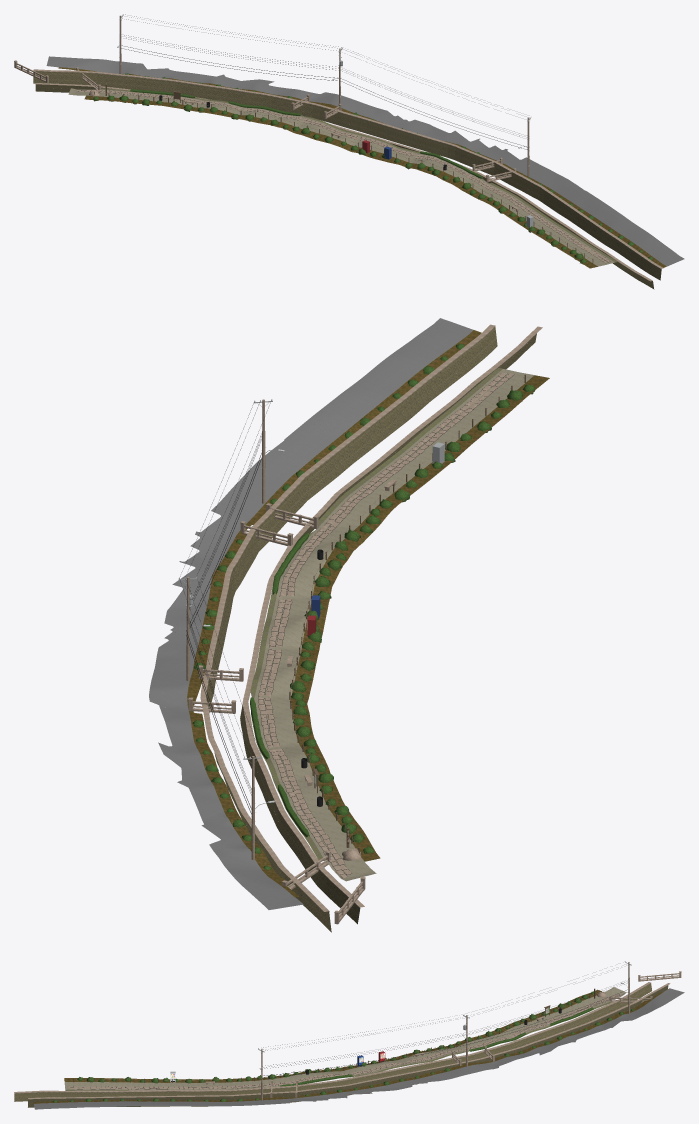
The model's file is tetsugaku.glb.
3 views of the same model, one above another, from view 1: azimuth 30°, elevation 25°; view 2: azimuth 150°, elevation 25°; view 3: azimuth 270°, elevation 25° (orthographic). The views are drawn at different scales.
Parts seen in each view (by area): view 1: tetsugaku_ground_asphalt, tetsugaku_wall_rubble, tetsugaku_ground_earth, tetsugaku_ground_verge, tetsugaku_wall_rubble_wet, tetsugaku_edging, tetsugaku_hedge, tetsugaku_shrub, tetsugaku_ground_slab, tetsugaku_granite, tetsugaku_cable, tetsugaku_ground_slab_b (+3 smaller); view 2: tetsugaku_ground_asphalt, tetsugaku_ground_earth, tetsugaku_ground_verge, tetsugaku_edging, tetsugaku_wall_rubble, tetsugaku_wall_rubble_wet, tetsugaku_shrub, tetsugaku_ground_slab, tetsugaku_hedge, tetsugaku_granite, tetsugaku_ground_slab_b, tetsugaku_ground_joint (+3 smaller); view 3: tetsugaku_wall_rubble, tetsugaku_ground_asphalt, tetsugaku_ground_earth, tetsugaku_ground_verge, tetsugaku_edging, tetsugaku_ground_slab, tetsugaku_hedge, tetsugaku_shrub, tetsugaku_ground_slab_b, tetsugaku_wall_rubble_wet, tetsugaku_granite, tetsugaku_cable (+4 smaller).
Boxes of the visible parts, bbox=[...] form: tetsugaku_ground_asphalt: bbox=[46, 56, 684, 266]; tetsugaku_wall_rubble: bbox=[33, 71, 661, 285]; tetsugaku_ground_earth: bbox=[68, 88, 614, 266]; tetsugaku_ground_verge: bbox=[58, 67, 666, 268]; tetsugaku_wall_rubble_wet: bbox=[33, 79, 660, 289]; tetsugaku_edging: bbox=[33, 69, 663, 281]; tetsugaku_hedge: bbox=[93, 76, 642, 264]; tetsugaku_shrub: bbox=[107, 73, 652, 259]; tetsugaku_ground_slab: bbox=[77, 89, 610, 261]; tetsugaku_granite: bbox=[14, 60, 519, 211]; tetsugaku_cable: bbox=[120, 14, 527, 149]; tetsugaku_ground_slab_b: bbox=[85, 89, 607, 263]; tetsugaku_ground_asphalt: bbox=[149, 318, 473, 909]; tetsugaku_ground_earth: bbox=[254, 369, 534, 881]; tetsugaku_ground_verge: bbox=[187, 330, 549, 897]; tetsugaku_edging: bbox=[200, 324, 542, 911]; tetsugaku_wall_rubble: bbox=[206, 327, 536, 925]; tetsugaku_wall_rubble_wet: bbox=[208, 336, 536, 932]; tetsugaku_shrub: bbox=[194, 343, 522, 853]; tetsugaku_ground_slab: bbox=[258, 372, 508, 878]; tetsugaku_hedge: bbox=[192, 355, 534, 869]; tetsugaku_granite: bbox=[188, 479, 396, 924]; tetsugaku_ground_slab_b: bbox=[258, 373, 514, 870]; tetsugaku_ground_joint: bbox=[258, 373, 514, 878]; tetsugaku_wall_rubble: bbox=[14, 983, 668, 1104]; tetsugaku_ground_asphalt: bbox=[34, 988, 684, 1109]; tetsugaku_ground_earth: bbox=[64, 987, 626, 1090]; tetsugaku_ground_verge: bbox=[33, 989, 662, 1103]; tetsugaku_edging: bbox=[14, 982, 670, 1099]; tetsugaku_ground_slab: bbox=[69, 993, 622, 1089]; tetsugaku_hedge: bbox=[70, 991, 634, 1101]; tetsugaku_shrub: bbox=[52, 995, 623, 1102]; tetsugaku_ground_slab_b: bbox=[68, 995, 616, 1089]; tetsugaku_wall_rubble_wet: bbox=[14, 987, 651, 1107]; tetsugaku_granite: bbox=[205, 971, 681, 1097]; tetsugaku_cable: bbox=[262, 982, 627, 1078].
Size of the model in its own units: 58 by 12.71 by 124.
Materials: 28 (16 with a texture image).
